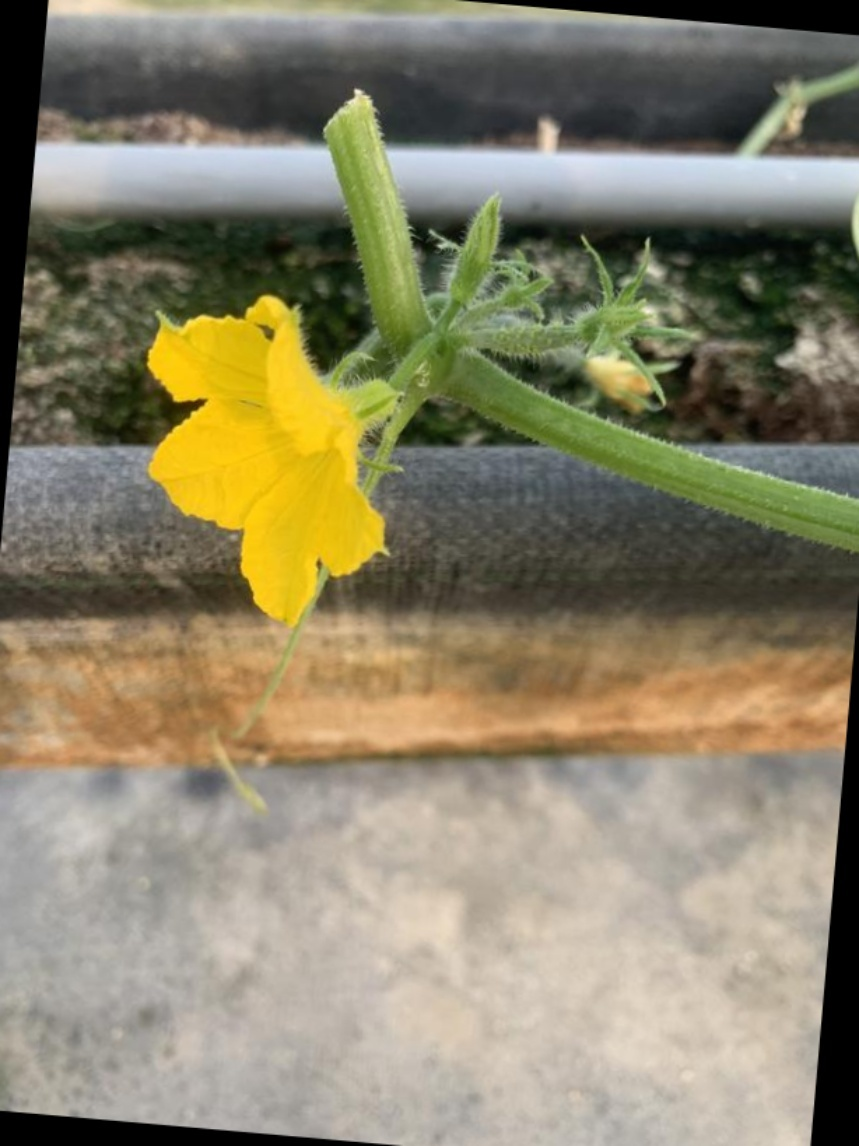flowering: (127, 294, 458, 630)
